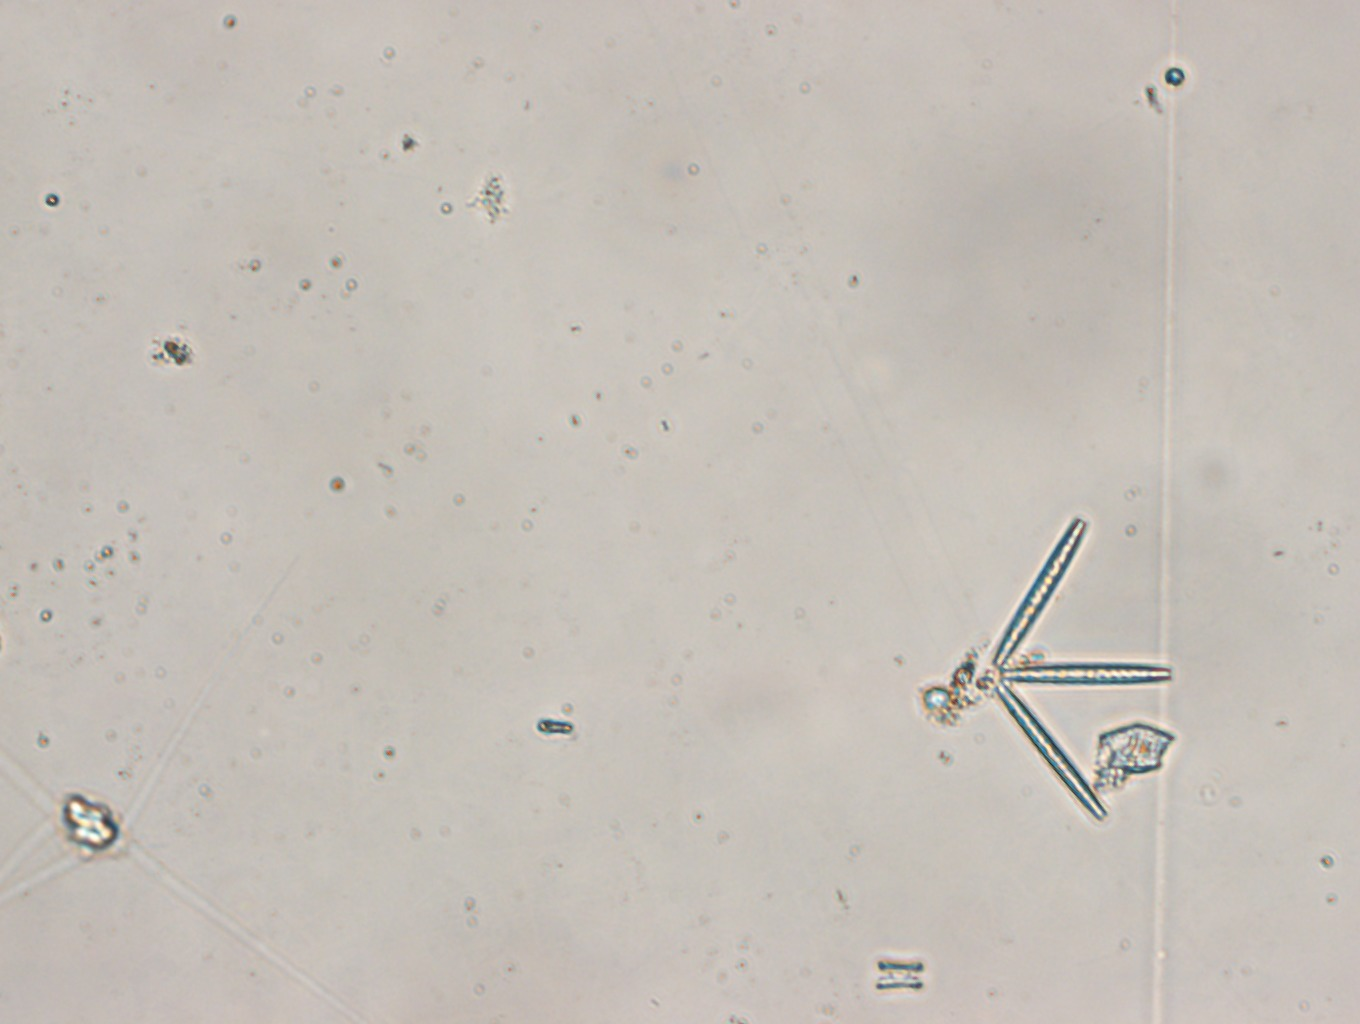thalassionema nitzschioides: (986, 514, 1173, 824)
